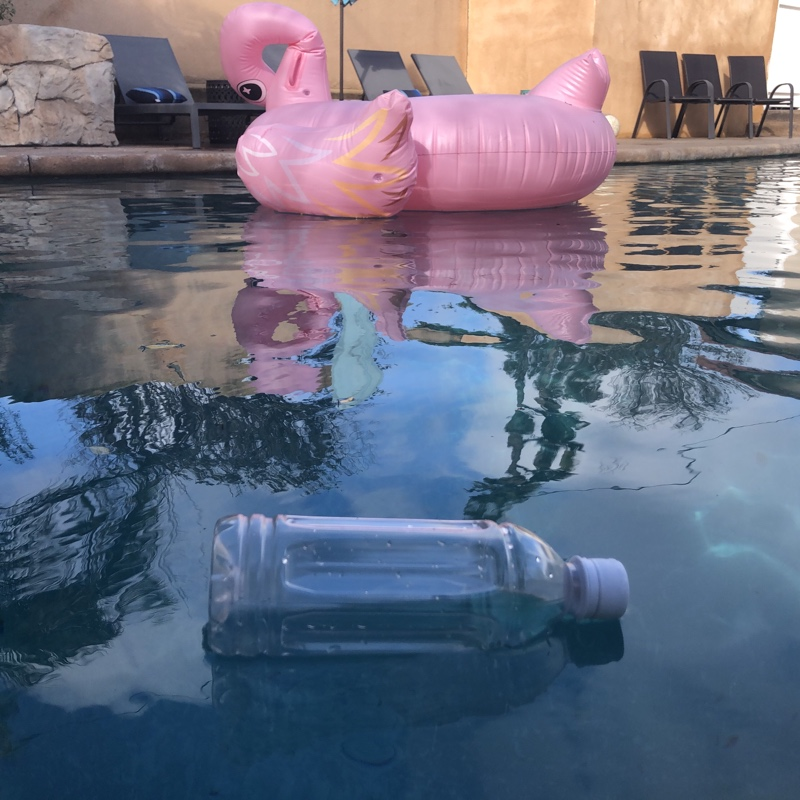Plastic Bottle: (201, 506, 633, 672)
